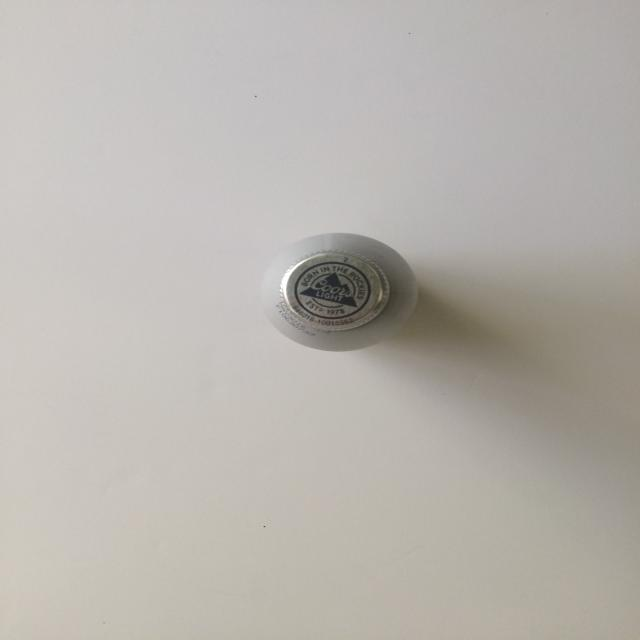metal: (260, 232, 419, 352)
